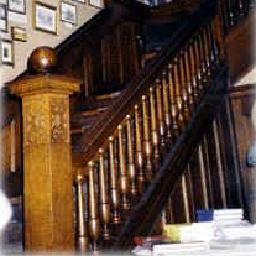Escaleras: (2, 7, 218, 254)
